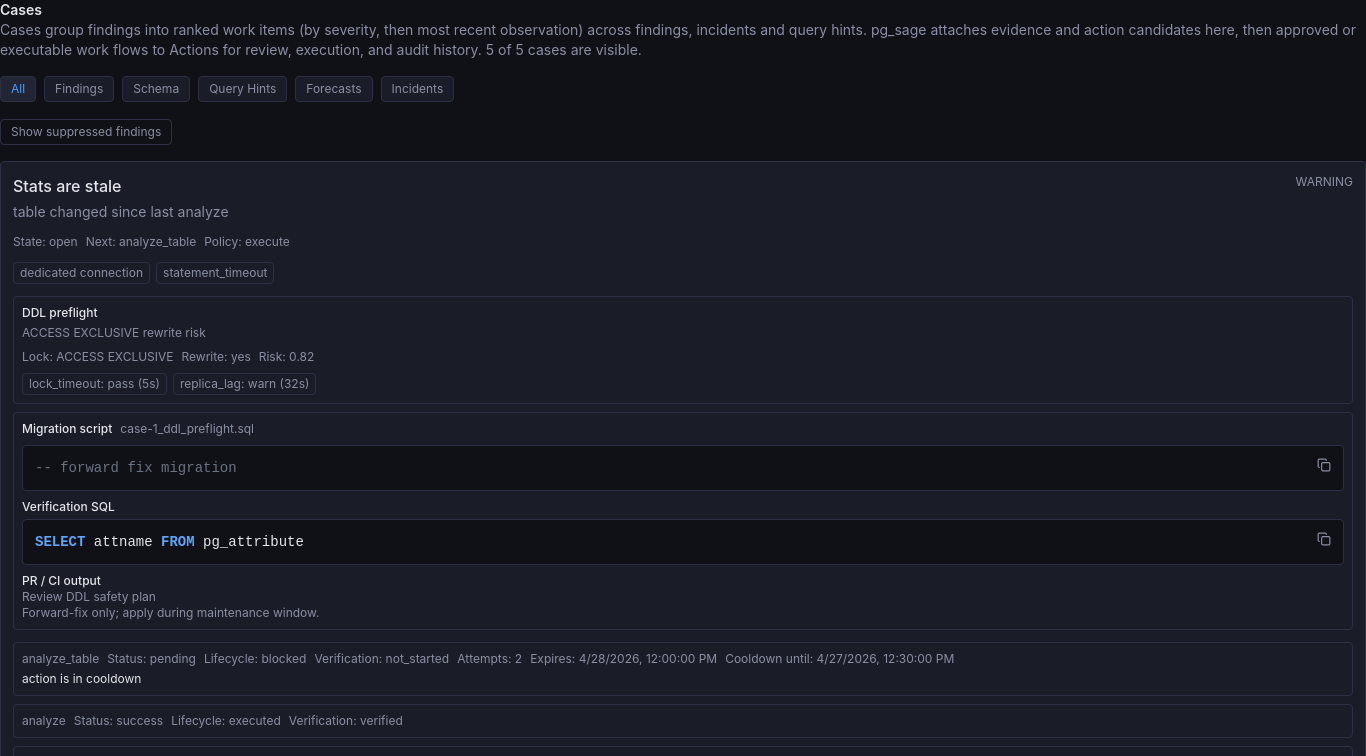
CasesPage › filters consolidated cases by source without changing routes
This screenshot has width=1366, height=756.
Step 1. Click the button "Query Hints" → x=243, y=89, box [198,76,287,102]
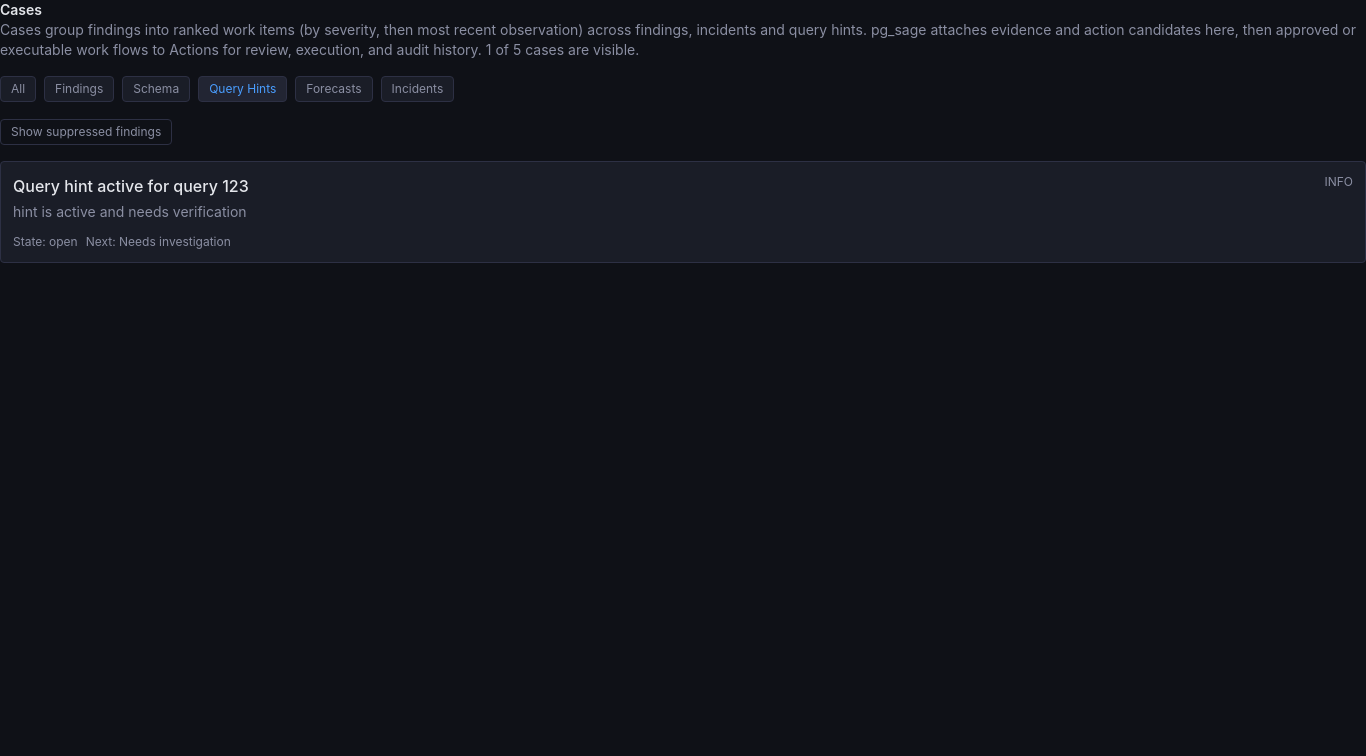
Expected: the heading "Query hint active for query 123" is shown, [13,174,249,198]
Expected: the heading "Stats are stale" is gone
